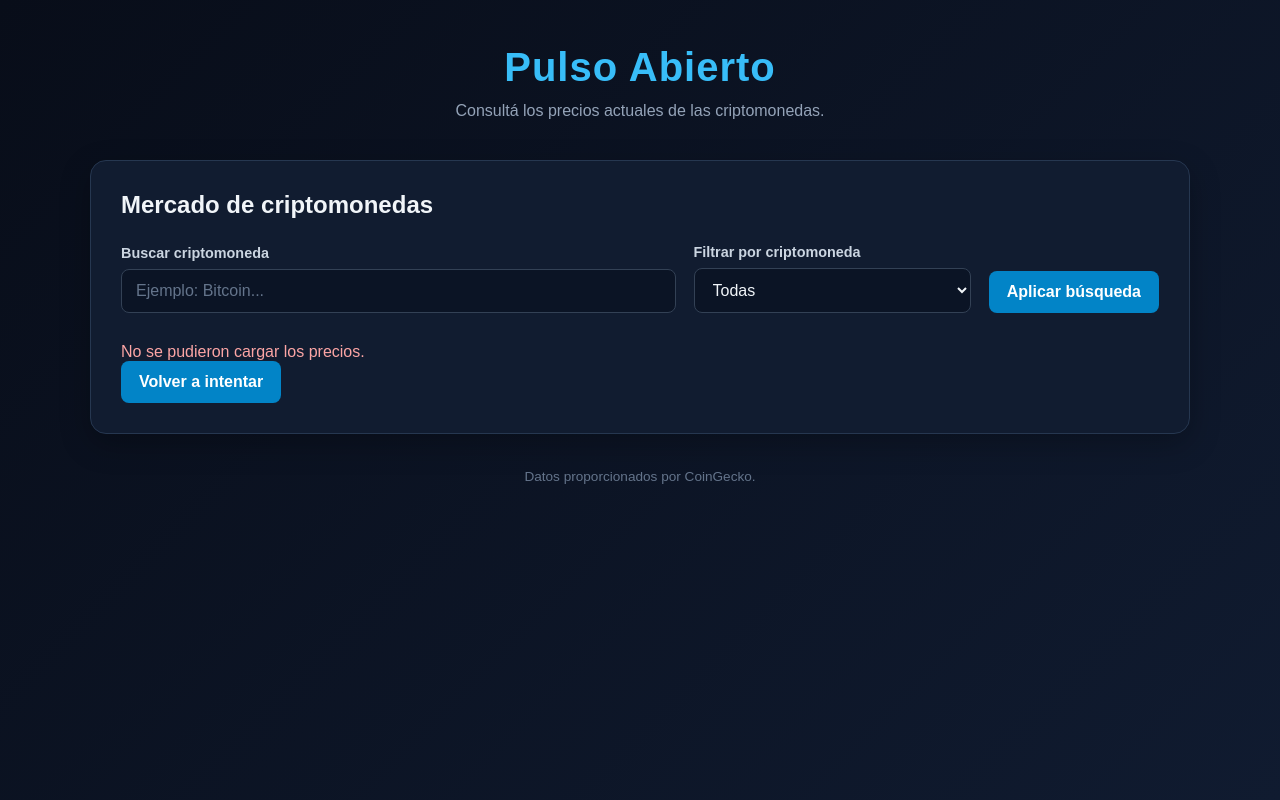
Test: Página principal › muestra un error y permite reintentar la consulta
Expected: the message shows "No se pudieron cargar los precios.", x1=121 y1=343 x2=365 y2=360
Click the button "Volver a intentar": (201, 382) x1=121 y1=361 x2=281 y2=403
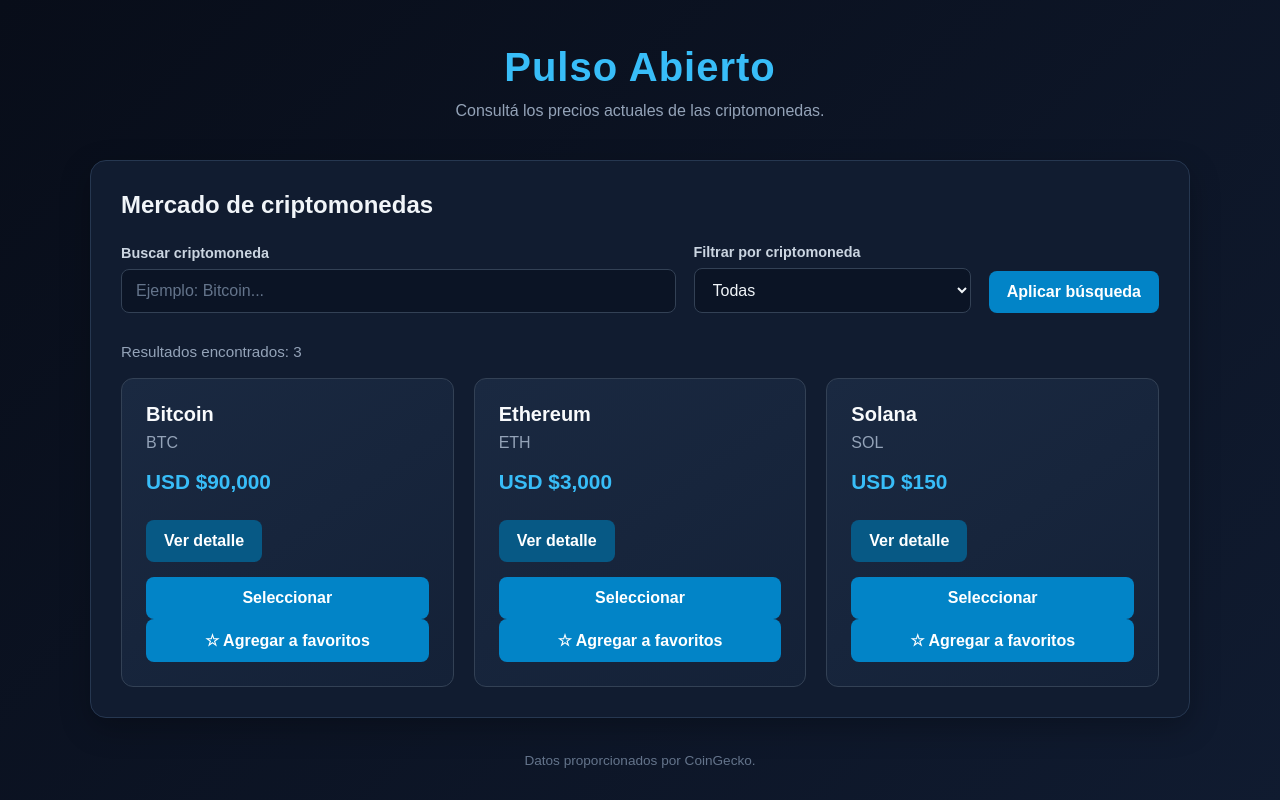
Expected: the heading "Bitcoin" is shown, x1=146 y1=403 x2=214 y2=425
